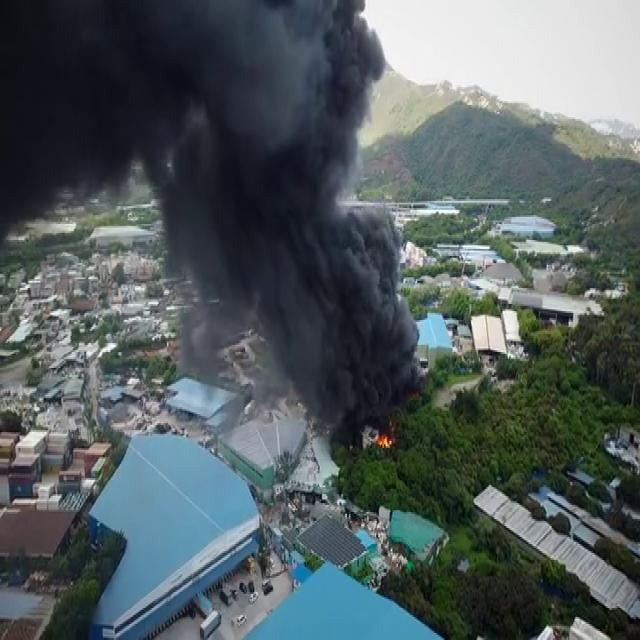smoke: (136, 3, 384, 188), (1, 0, 133, 203), (166, 194, 292, 334), (294, 191, 400, 325), (294, 334, 421, 418), (181, 305, 229, 380), (252, 334, 294, 414)
